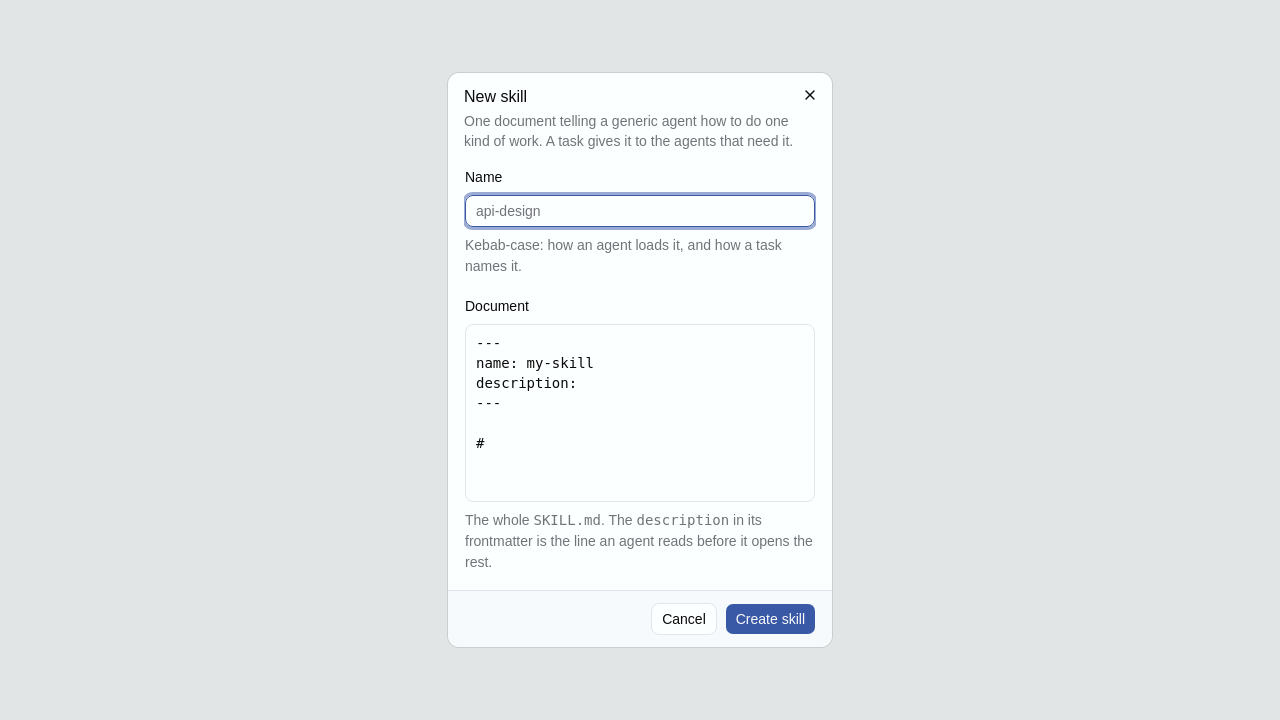
it: creating › puts a name already taken on the name field
Type "coding" into the field labelled "Name".
click(640, 211); type("coding")  # box [465,195,815,227]
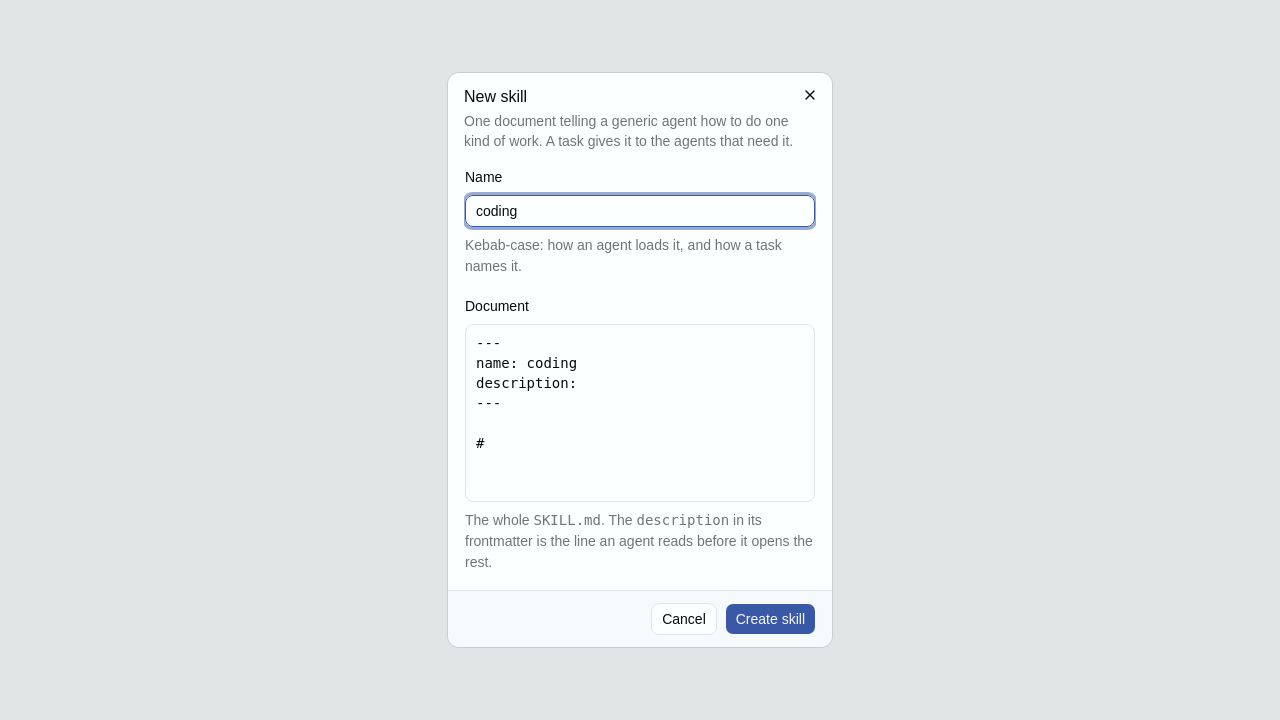
Click the button "Create skill".
click(770, 619)  # box [725,603,816,635]
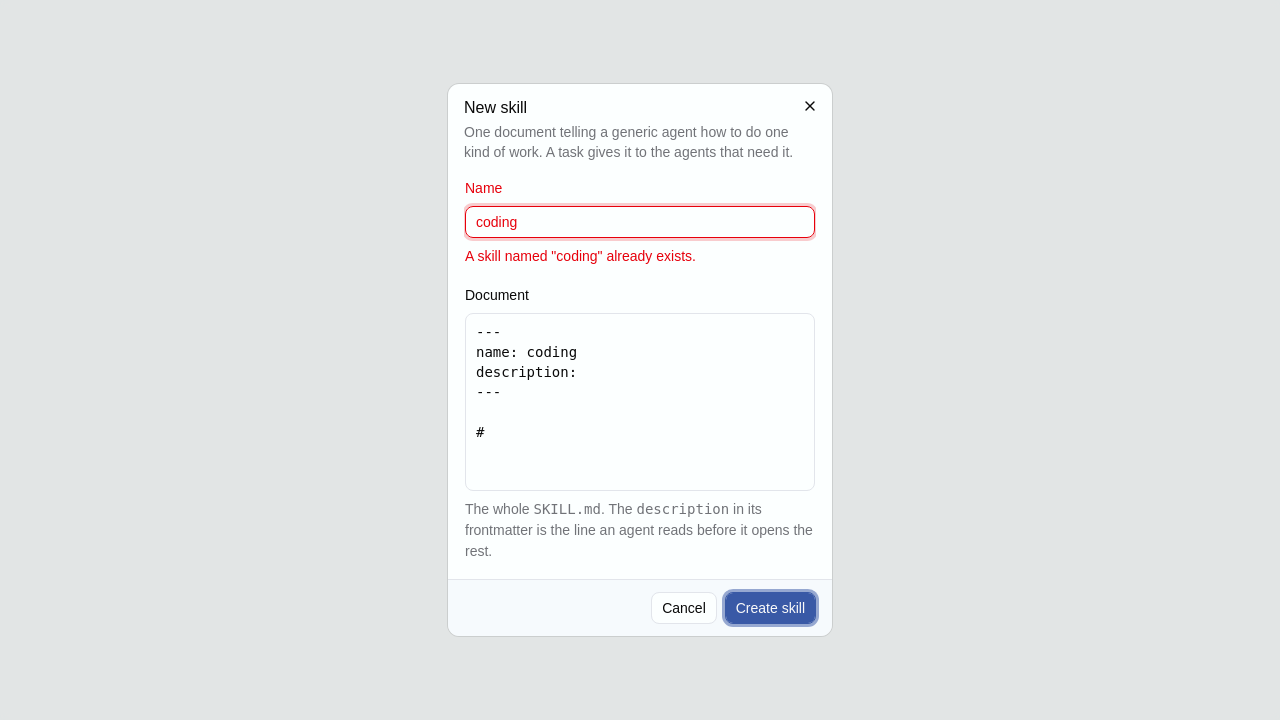
Now the text "A skill named \"coding\" already exists." is shown, box [465,248,696,264]
